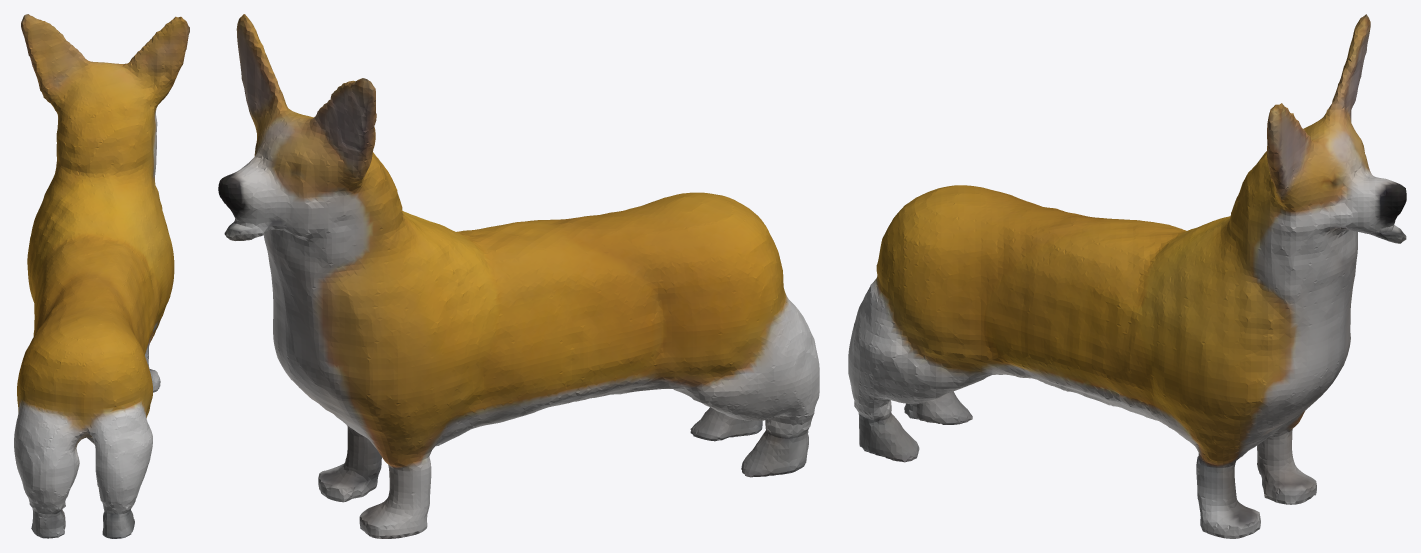
File: tmp219l5ibh.glb
The picture shows the model from 3 angles, left to right: view 1: azimuth 30°, elevation 25°; view 2: azimuth 150°, elevation 25°; view 3: azimuth 270°, elevation 25°; orthographic projection. The views are drawn at different scales.
Visible parts, largest first — view 1: world; view 2: world; view 3: world.
Part boxes in pixels (left/top/right/bottom): world: left=14, top=14, right=189, bottom=538; world: left=218, top=14, right=819, bottom=538; world: left=848, top=14, right=1406, bottom=538.
Size of the model in its own units: 1.32 by 1.58 by 1.63.
